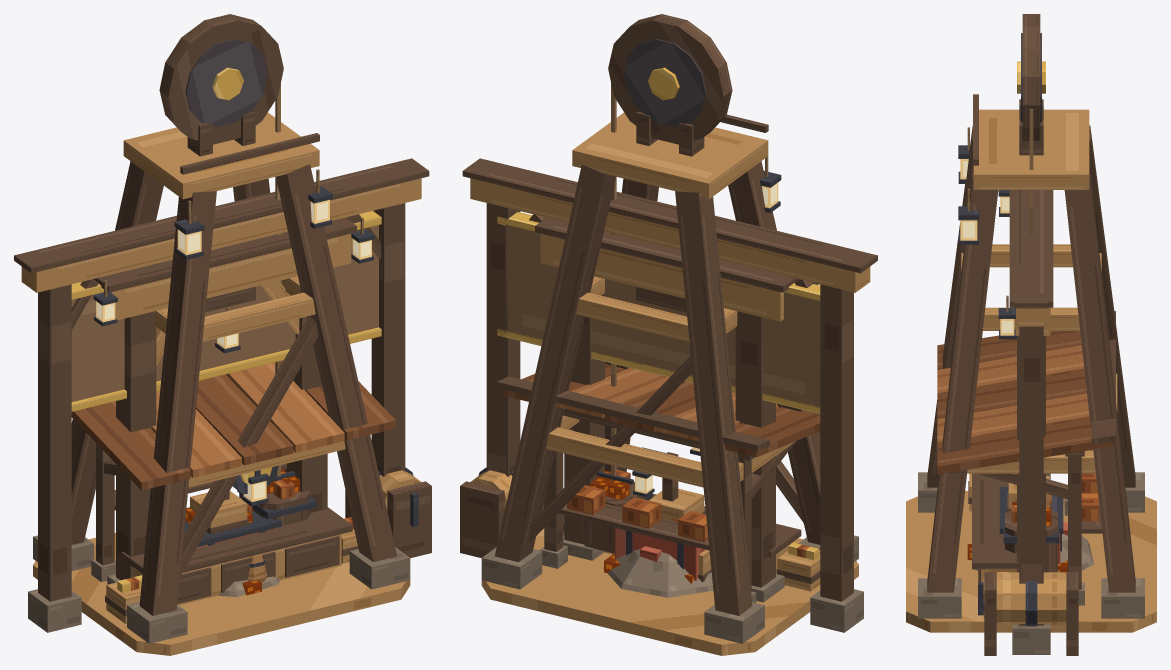
The model's file is old-mine-props.glb.
3 renders of one model, left to right at view 1: azimuth 30°, elevation 25°; view 2: azimuth 150°, elevation 25°; view 3: azimuth 270°, elevation 25°, orthographic. The views are drawn at different scales.
Parts seen in each view (by area): view 1: Leg, Leg.001, Deck.001, Upright, Board, Platform, Upright.001, TopBeamCap, TopBeam, Post.004, Sheave, Cap (+34 smaller); view 2: Leg.002, Board, Leg.003, Deck.001, Upright, Platform, TopBeamCap, Upright.001, TopBeam, Sheave, Post.004, Cap (+36 smaller); view 3: Leg.003, Leg.001, Deck.001, Platform, Upright.001, TopBeamCap, RoofPlank.004, CounterTop, WinchDrum, Leg.002, RoofPlank.003, RoofPlank.001 (+29 smaller).
Boxes of the visible parts, x1,y1,x2,y2 form: Leg: [139, 191, 216, 615]; Leg.001: [276, 164, 396, 562]; Deck.001: [33, 533, 410, 655]; Upright: [38, 284, 71, 601]; Board: [71, 225, 378, 401]; Platform: [123, 112, 319, 199]; Upright.001: [371, 203, 405, 476]; TopBeamCap: [14, 158, 429, 273]; TopBeam: [21, 178, 421, 292]; Post.004: [116, 311, 156, 580]; Sheave: [159, 14, 283, 144]; Cap: [103, 233, 351, 320]; Leg.002: [675, 191, 752, 615]; Board: [505, 224, 822, 408]; Leg.003: [495, 164, 615, 562]; Deck.001: [481, 528, 858, 655]; Upright: [820, 284, 853, 601]; Platform: [572, 112, 768, 199]; TopBeamCap: [462, 158, 877, 273]; Upright.001: [486, 203, 520, 476]; TopBeam: [470, 178, 870, 292]; Sheave: [608, 14, 732, 144]; Post.004: [735, 311, 775, 587]; Cap: [540, 233, 783, 321]; Leg.003: [1064, 174, 1135, 592]; Leg.001: [927, 174, 998, 592]; Deck.001: [906, 491, 1156, 632]; Platform: [973, 109, 1089, 189]; Upright.001: [1019, 326, 1043, 625]; TopBeamCap: [1014, 190, 1048, 308]; RoofPlank.004: [937, 419, 1113, 474]; CounterTop: [972, 473, 1019, 569]; WinchDrum: [996, 572, 1066, 624]; Leg.002: [1089, 125, 1135, 487]; RoofPlank.003: [937, 393, 1089, 442]; RoofPlank.001: [937, 345, 1084, 393].
Size of the model in its own units: 9.3 by 12.52 by 5.2.
Materials: 2 (2 with a texture image).
